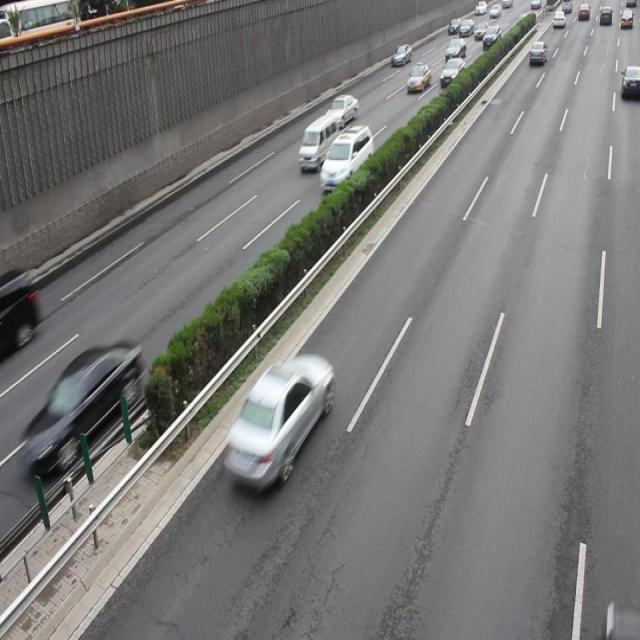car: (30, 337, 141, 474), (224, 350, 331, 486), (322, 93, 357, 127)
truck: (320, 124, 374, 189), (299, 114, 336, 173)
